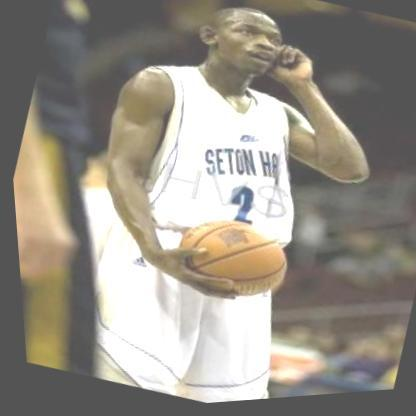basketball: (157, 201, 299, 322)
